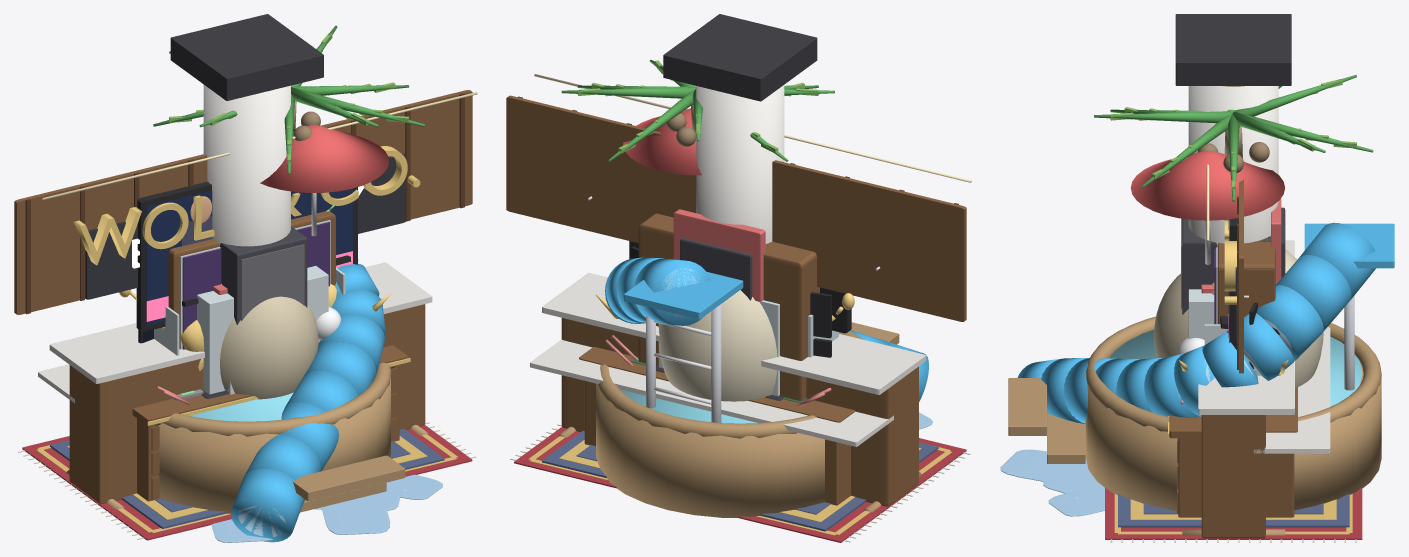
Rendered from PropPack3.fbx.
3 renders of one model, left to right at view 1: azimuth 30°, elevation 25°; view 2: azimuth 150°, elevation 25°; view 3: azimuth 270°, elevation 25°, orthographic. The views are drawn at different scales.
Visible parts, largest first — view 1: Wood_Walnut.033, WoodPlanks_Teak.002, Plastic_SlideBlue, Wood_Walnut.027, Marble_White, Marble_Black.004, Fabric_EggInside, Marble_White.005, Fabric_ParasolRed.003, Metal_Gold.056, Glass_Backer, Wood_Walnut.013 (+22 smaller); view 2: Wood_Walnut.033, WoodPlanks_Teak.002, Marble_White.005, Wood_Walnut.027, Marble_White, Marble_Black.004, Fabric_EggWicker, Plastic_SlideBlue, Wood_Walnut.030, Wood_Walnut.013, Fabric_RugRed, Wood_GuardRed (+15 smaller); view 3: WoodPlanks_Teak.002, Plastic_SlideBlue, Marble_Black.004, Wood_Walnut.027, Marble_White.005, Fabric_ParasolRed.003, Marble_White, Wood_Walnut.013, LeafyGrass_Leaf.005, Glass_Water.002, Fabric_RugRed, Wood_Walnut.030 (+15 smaller).
Boxes of the visible parts, x1,y1,x2,y2 form: Wood_Walnut.033: (14,90,472,314); WoodPlanks_Teak.002: (158,362,405,513); Plastic_SlideBlue: (231,259,385,542); Wood_Walnut.027: (69,304,425,504); Marble_White: (203,85,290,246); Marble_Black.004: (170,14,323,100); Fabric_EggInside: (220,296,318,399); Marble_White.005: (38,262,432,403); Fabric_ParasolRed.003: (260,124,388,192); Metal_Gold.056: (74,146,420,265); Glass_Backer: (85,153,405,299); Wood_Walnut.013: (132,345,407,501); Wood_Walnut.033: (506,95,966,321); WoodPlanks_Teak.002: (596,322,899,517); Marble_White.005: (530,273,926,446); Wood_Walnut.027: (561,318,918,506); Marble_White: (696,85,784,243); Marble_Black.004: (663,14,817,101); Fabric_EggWicker: (658,290,780,401); Plastic_SlideBlue: (605,257,928,401); Wood_Walnut.030: (638,213,819,400); Wood_Walnut.013: (579,347,855,505); Fabric_RugRed: (514,427,966,542); Wood_GuardRed: (673,209,765,301); WoodPlanks_Teak.002: (1008,316,1381,511); Plastic_SlideBlue: (1017,222,1394,423); Marble_Black.004: (1175,14,1291,85); Wood_Walnut.027: (1201,415,1265,538); Marble_White.005: (1198,240,1330,453); Fabric_ParasolRed.003: (1130,150,1284,220); Marble_White: (1188,86,1278,247); Wood_Walnut.013: (1169,386,1297,517); LeafyGrass_Leaf.005: (1094,75,1373,201); Glass_Water.002: (1000,449,1104,516); Fabric_RugRed: (1105,487,1362,539); Wood_Walnut.030: (1217,236,1275,324).
Size of the model in its own units: 420 by 367 by 306.
